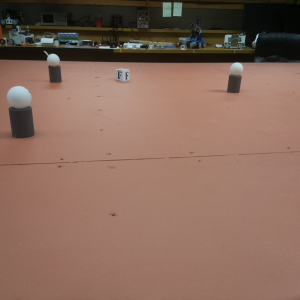obstacle: (7, 86, 36, 140), (45, 53, 63, 85), (227, 61, 243, 95)
